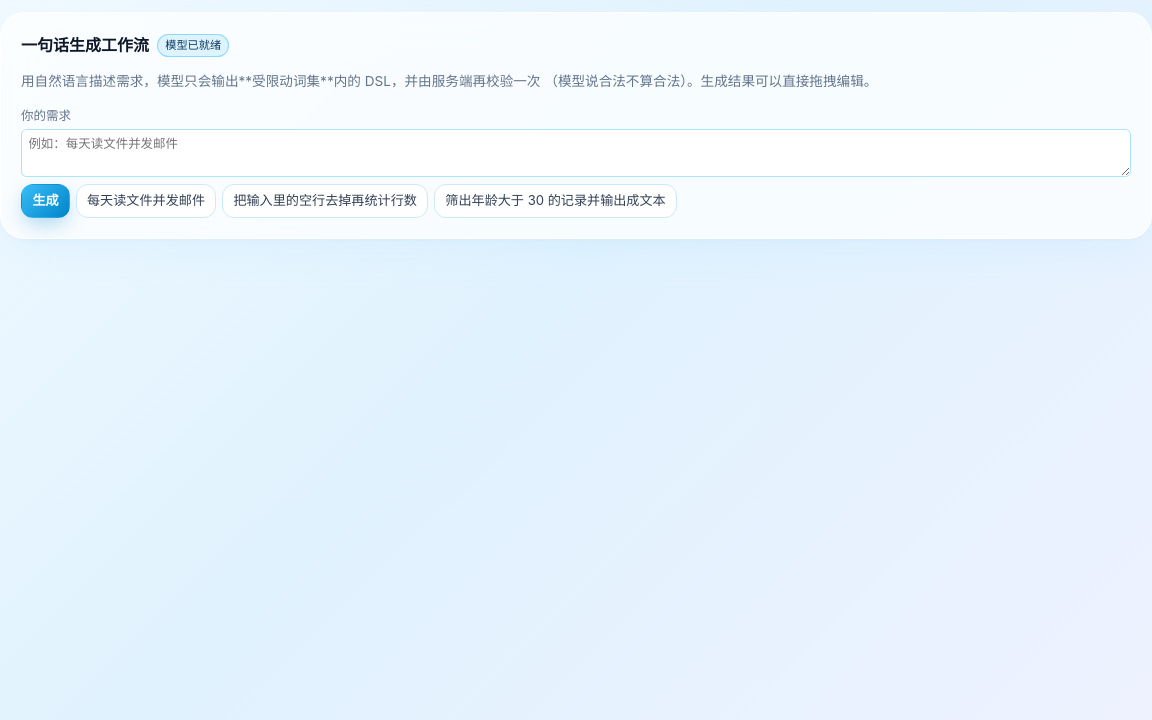
GeneratePanel 一句话生成 · 诚实契约 › 空 prompt 不打后端，直接如实报错
Click the button with test id "flow-generate-run". click: (46, 201)
box: top-left (21, 184), bottom-right (70, 218)
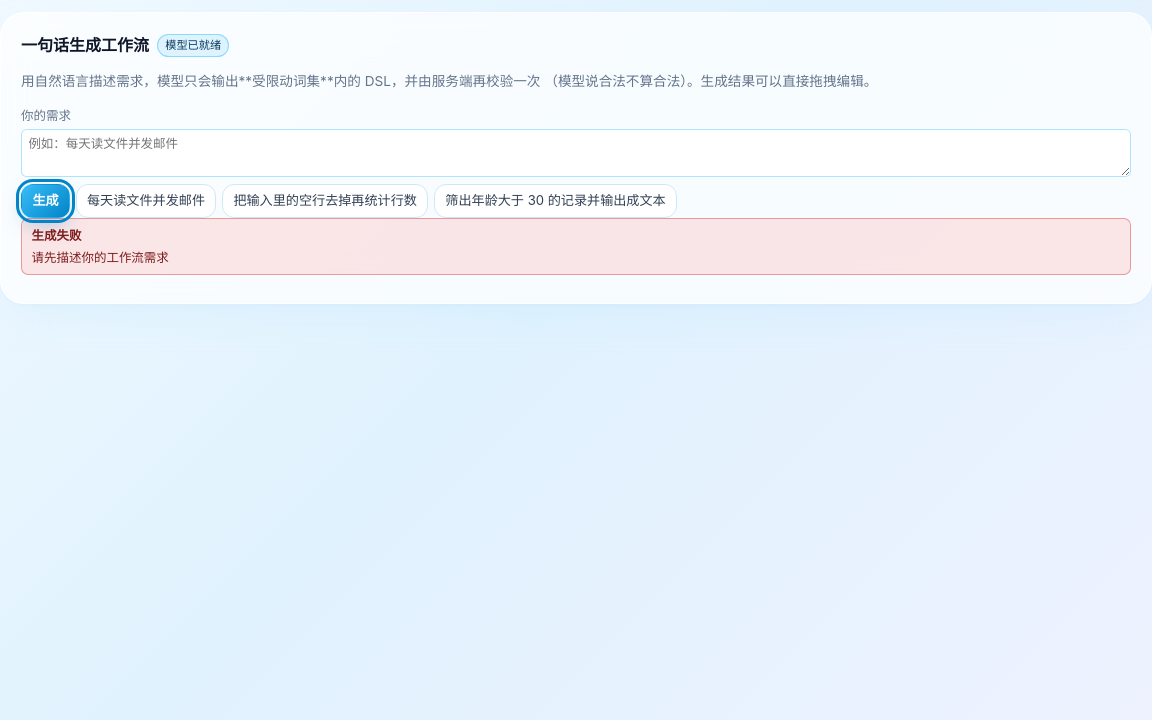
Result: the message with test id "flow-generate-error" shows "请先描述" at top-left (32, 250), bottom-right (169, 264)
